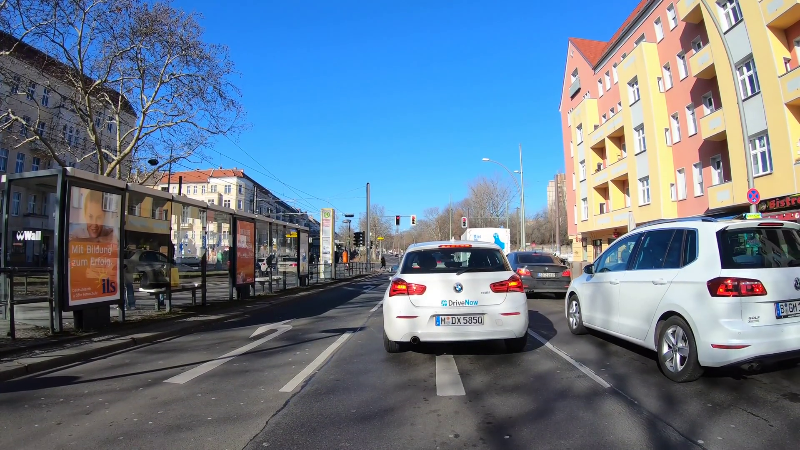Plate: (434, 313, 485, 326), (774, 296, 800, 316)
